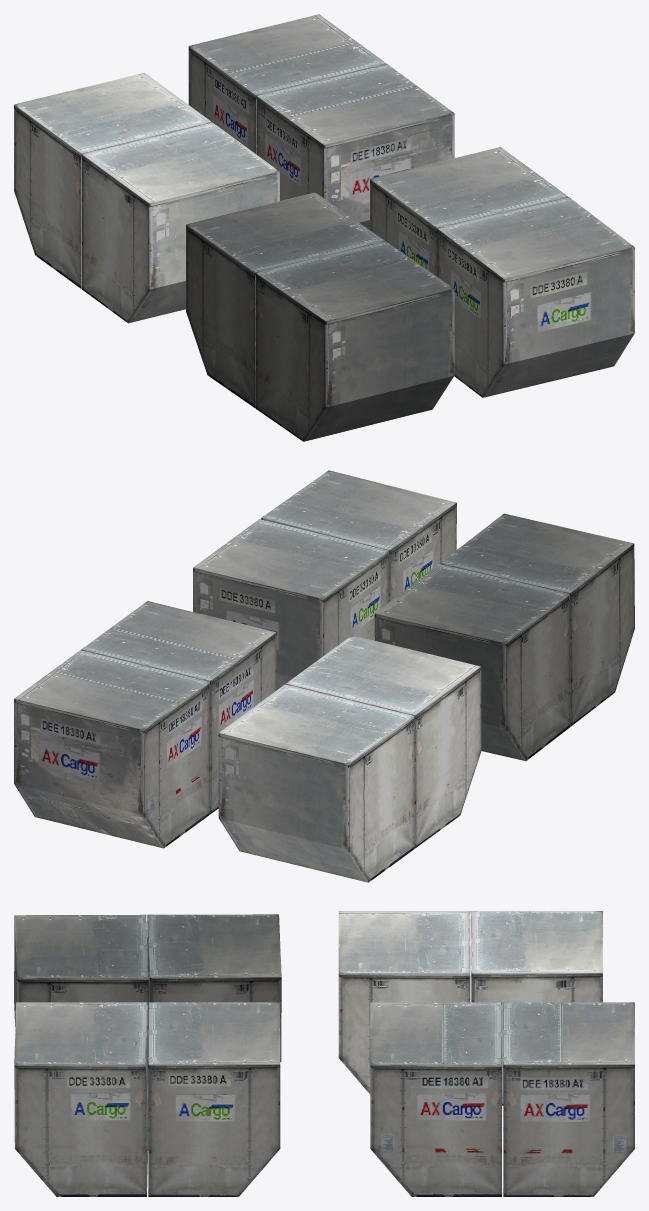
File: CONTAINERS_4_GROUP.gltf
3 renders of one model, top to bottom at view 1: azimuth 30°, elevation 25°; view 2: azimuth 150°, elevation 25°; view 3: azimuth 270°, elevation 25°, orthographic. The views are drawn at different scales.
Parts seen in each view (by area): view 1: node1; view 2: node1; view 3: node1.
Part boxes in pixels (x1,y1,x2,y2): node1: (14,14,634,441); node1: (14,470,634,882); node1: (14,911,634,1196).
Size of the model in its own units: 3.89 by 1.58 by 6.65.
